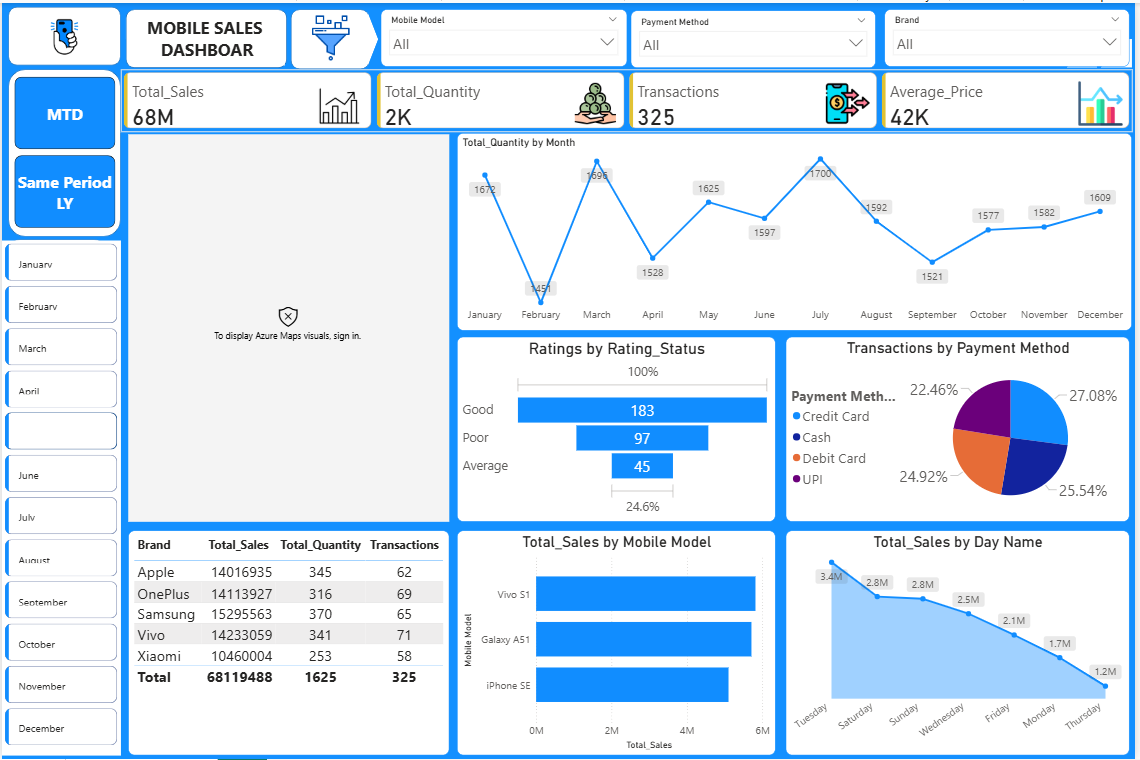

The dashboard page shown, as its layout file describes it:
{"tool":"powerbi","page":{"name":"Dashboard","canvas":[1800,1200],"ordinal":0},"visuals":[{"type":"shape","box":[9.9,6,178.6,93.3],"z":0},{"type":"image","box":[57.5,11.9,83.3,83.3],"z":1000},{"type":"shape","box":[4,375,166.7,805.6],"z":2000},{"type":"shape","box":[9.9,105.2,178.6,265.9],"z":3000},{"type":"advancedSlicerVisual","fields":{"Values":["Custom_Calendar.Date.Variation.Date Hierarchy.Month"]},"box":[0,377,188.5,817.5],"z":4000},{"type":"cardVisual","fields":{"Data":["Sales Data.Total_Sales","Sales Data.Total_Quantity","Sales Data.Transactions","Sales Data.Average_Price"]},"box":[188.5,105.2,1607.2,99.2],"z":5000},{"type":"slicer","fields":{"Values":["Sales Data.Mobile Model"]},"box":[601.2,9.9,390.9,91.3],"z":6000},{"type":"slicer","fields":{"Values":["Sales Data.Payment Method"]},"box":[998,11.9,388.9,91.3],"z":7000},{"type":"slicer","fields":{"Values":["Sales Data.Brand"]},"box":[1400.8,9.9,388.9,91.3],"z":8000},{"type":"shape","box":[458.3,9.9,125,95.2],"z":9000},{"type":"image","box":[464.3,13.9,115.1,83.3],"z":10000},{"type":"shape","box":[563.5,13.9,33.7,87.3],"z":11000},{"type":"shape","box":[196.4,9.9,256,93.3],"z":12000},{"type":"textbox","box":[202.4,15.9,246,83.3],"z":13000},{"type":"azureMap","fields":{"Category":["Sales Data.City"],"Size":["Sales Data.Total_Sales"]},"box":[200.4,208.3,509.9,615.1],"z":14000},{"type":"lineChart","fields":{"Category":["Custom_Calendar.Date.Variation.Date Hierarchy.Month"],"Y":["Sales Data.Total_Quantity"]},"box":[722.2,206.4,1071.4,313.5],"z":15000},{"type":"funnel","title":"Ratings by Rating_Status","fields":{"Y":["CountNonNull(Sales Data.Customer Ratings)"],"Category":["Sales Data.Rating_Status"]},"box":[722.2,529.8,506,293.7],"z":16000},{"type":"pieChart","fields":{"Y":["Sales Data.Transactions"],"Category":["Sales Data.Payment Method"]},"box":[1244.1,529.8,545.6,293.7],"z":17000},{"type":"clusteredBarChart","fields":{"Y":["Sales Data.Total_Sales"],"Category":["Sales Data.Mobile Model"]},"box":[722.2,837.3,506,357.1],"z":18000},{"type":"areaChart","fields":{"Y":["Sales Data.Total_Sales"],"Category":["Custom_Calendar.Day Name"]},"box":[1244.1,837.3,545.6,357.1],"z":19000},{"type":"tableEx","fields":{"Values":["Sales Data.Brand","Sales Data.Total_Sales","Sales Data.Total_Quantity","Sales Data.Transactions"]},"box":[200.4,837.3,509.9,357.1],"z":20000},{"type":"pageNavigator","box":[19.8,117.1,160.7,240.1],"z":21000}]}

Visuals, with their boxes in screenshot pixels (x1, y1, x2, y2), scaled from the page's 1800x1200 canvas onto the 1140x760 screenshot:
shape: [6, 4, 119, 63]
image: [36, 8, 89, 60]
shape: [3, 238, 108, 748]
shape: [6, 67, 119, 235]
advancedSlicerVisual - Custom_Calendar.Date.Variation.Date Hierarchy.Month: [0, 239, 119, 757]
cardVisual - Sales Data.Total_Sales x Sales Data.Total_Quantity: [119, 67, 1137, 129]
slicer - Sales Data.Mobile Model: [381, 6, 628, 64]
slicer - Sales Data.Payment Method: [632, 8, 878, 65]
slicer - Sales Data.Brand: [887, 6, 1133, 64]
shape: [290, 6, 369, 67]
image: [294, 9, 367, 62]
shape: [357, 9, 378, 64]
shape: [124, 6, 287, 65]
textbox: [128, 10, 284, 63]
azureMap - Sales Data.City x Sales Data.Total_Sales: [127, 132, 450, 521]
lineChart - Custom_Calendar.Date.Variation.Date Hierarchy.Month x Sales Data.Total_Quantity: [457, 131, 1136, 329]
"Ratings by Rating_Status" funnel: [457, 336, 778, 522]
pieChart - Sales Data.Transactions x Sales Data.Payment Method: [788, 336, 1133, 522]
clusteredBarChart - Sales Data.Total_Sales x Sales Data.Mobile Model: [457, 530, 778, 756]
areaChart - Sales Data.Total_Sales x Custom_Calendar.Day Name: [788, 530, 1133, 756]
tableEx - Sales Data.Brand x Sales Data.Total_Sales: [127, 530, 450, 756]
pageNavigator: [13, 74, 114, 226]
